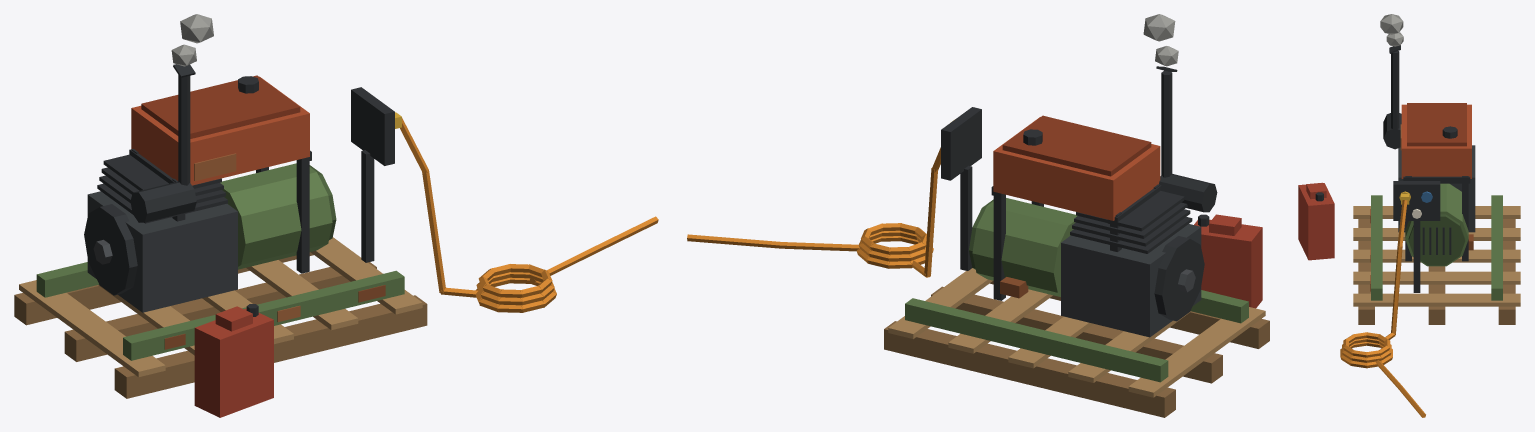
File: lwf_farm_diesel_normal_v1.glb
3 renders of one model, left to right at view 1: azimuth 30°, elevation 25°; view 2: azimuth 150°, elevation 25°; view 3: azimuth 270°, elevation 25°, orthographic. The views are drawn at different scales.
Visible parts, largest first — view 1: LWF_FarmDiesel_Base, LWF_FarmDiesel_State_Normal; view 2: LWF_FarmDiesel_Base, LWF_FarmDiesel_State_Normal; view 3: LWF_FarmDiesel_Base, LWF_FarmDiesel_State_Normal.
Part boxes in pixels (x1,y1,x2,y2): LWF_FarmDiesel_Base: (14,75,658,417); LWF_FarmDiesel_State_Normal: (130,14,477,297); LWF_FarmDiesel_Base: (687,107,1269,417); LWF_FarmDiesel_State_Normal: (912,14,1217,277); LWF_FarmDiesel_Base: (1298,103,1520,417); LWF_FarmDiesel_State_Normal: (1378,14,1409,343).
Bounding box in the file's own units: 2.78 × 1.59 × 1.33.
1 material, 1 textured.
